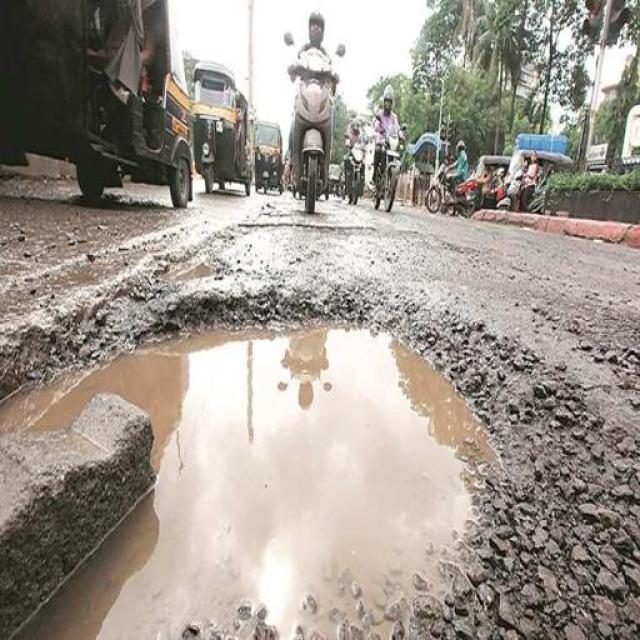puddle: (140, 340, 465, 631)
